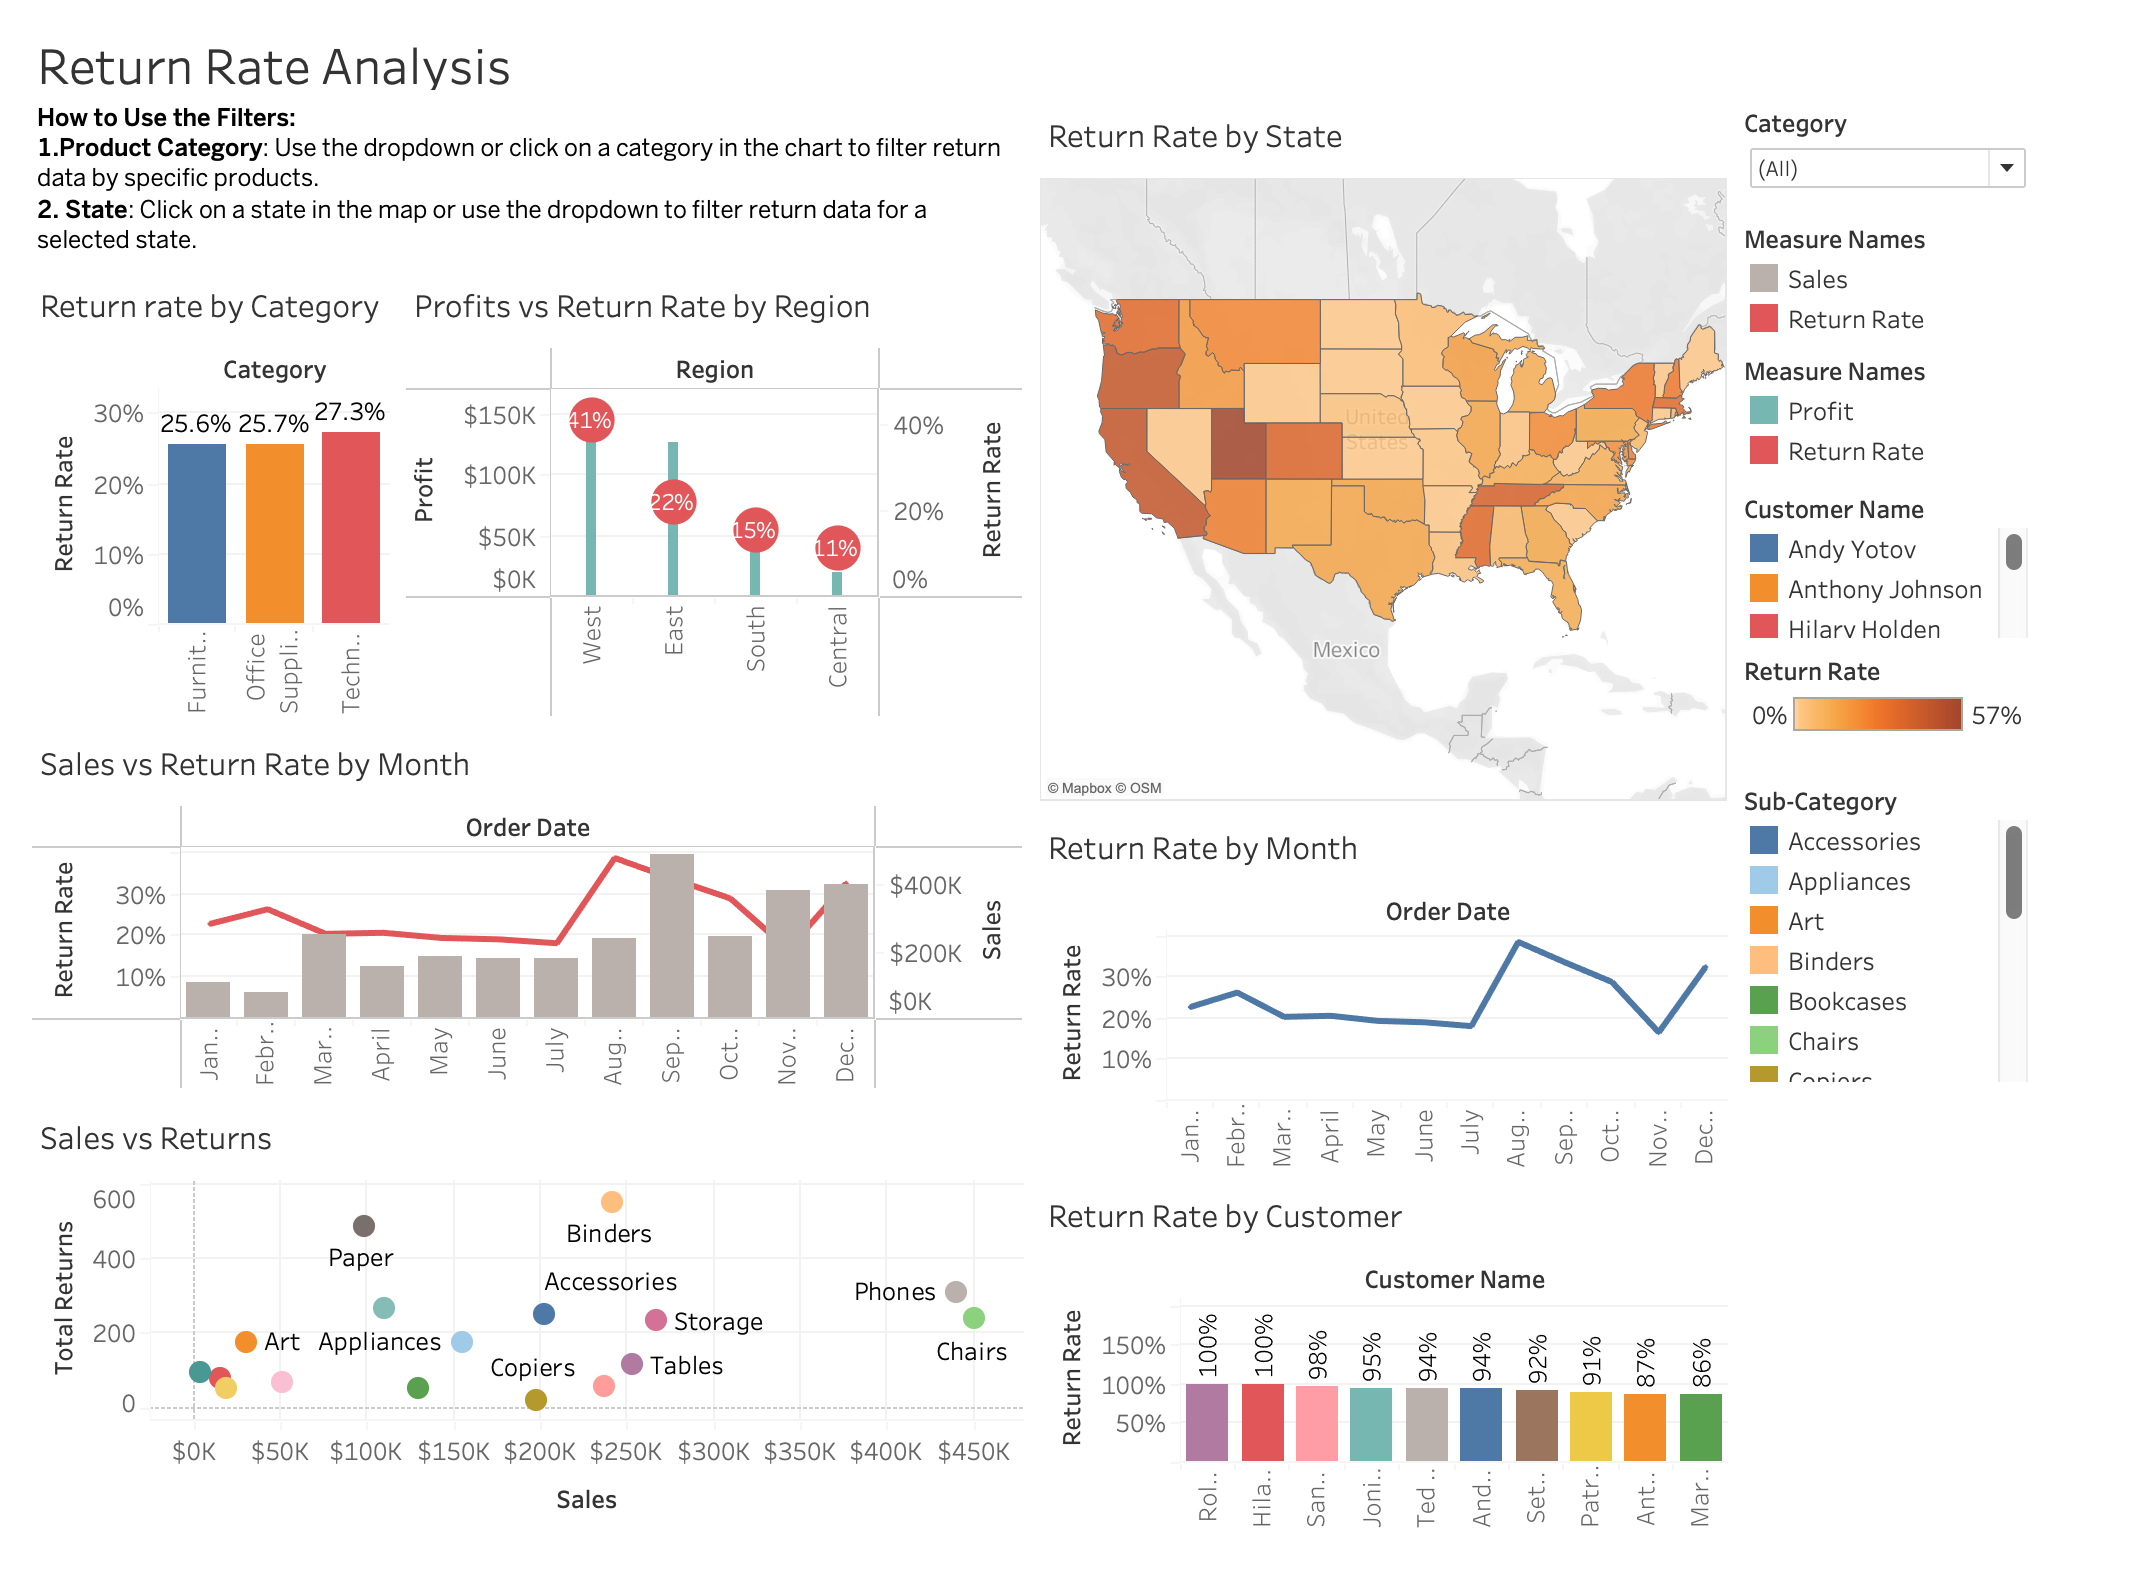

This screenshot's page, from the dashboard's own definition file:
{"tool":"tableau","page":{"name":"Return Rate Analysis","canvas":[1024,768],"ordinal":2},"visuals":[{"type":"title","box":[8,8,1008,32]},{"type":"text","box":[8,40,504,85]},{"type":"worksheet","title":"Return Rate by State","mark":"Automatic","box":[512,40,352,356]},{"type":"filter","title":"Return rate by Category","param":"[federated.04a0jq51cfmkmh19b9qtm1soxyis].[none:Category:nk]","box":[864,40,152,57.8]},{"type":"legend","title":"Sales vs Return Rate by Month","param":"[federated.04a0jq51cfmkmh19b9qtm1soxyis].[:Measure Names]","box":[864,97.8,152,66]},{"type":"worksheet","title":"Return rate by Category","mark":"Bar","rows":["Calculation_72550234440519680"],"cols":["Category"],"box":[8,125,187,229]},{"type":"worksheet","title":"Profits vs Return Rate by Region","mark":"Circle","rows":["Profit","Calculation_72550234456182786"],"cols":["Region"],"box":[195,125,317,229]},{"type":"legend","title":"Profits vs Return Rate by Region","param":"[federated.04a0jq51cfmkmh19b9qtm1soxyis].[:Measure Names]","box":[864,163.8,152,69]},{"type":"legend","title":"Return Rate by Customer","param":"[federated.04a0jq51cfmkmh19b9qtm1soxyis].[none:Customer Name:nk]","box":[864,232.8,152,81]},{"type":"legend","title":"Return Rate by State","param":"[federated.04a0jq51cfmkmh19b9qtm1soxyis].[usr:Calculation_72550234456182786:qk]","box":[864,313.8,152,65]},{"type":"worksheet","title":"Sales vs Return Rate by Month","mark":"Line","rows":["Calculation_72550234456182786","Sales"],"cols":["Order Date"],"box":[8,354,504,187]},{"type":"legend","title":"Sales vs Returns","param":"[federated.04a0jq51cfmkmh19b9qtm1soxyis].[none:Sub-Category:nk]","box":[864,378.8,152,157]},{"type":"worksheet","title":"Return Rate by Month","mark":"Line","rows":["Calculation_72550234456182786"],"cols":["Order Date"],"box":[512,396,352,184]},{"type":"worksheet","title":"Sales vs Returns","mark":"Circle","rows":["Calculation_72550234440519680"],"cols":["Sales"],"box":[8,541,504,219]},{"type":"worksheet","title":"Return Rate by Customer","mark":"Bar","rows":["Calculation_72550234456182786"],"cols":["Customer Name"],"box":[512,580,352,180]}]}

Visuals, with their boxes in screenshot pixels (x1, y1, x2, y2), scaled from the page's 1024x768 canvas onto the 2134x1576 screenshot:
title: BBox(17, 16, 2117, 82)
text: BBox(17, 82, 1067, 257)
"Return Rate by State" worksheet: BBox(1067, 82, 1801, 813)
"Return rate by Category" filter: BBox(1801, 82, 2117, 201)
"Sales vs Return Rate by Month" legend: BBox(1801, 201, 2117, 336)
"Return rate by Category" worksheet (Bar marks): BBox(17, 257, 406, 726)
"Profits vs Return Rate by Region" worksheet (Circle marks): BBox(406, 257, 1067, 726)
"Profits vs Return Rate by Region" legend: BBox(1801, 336, 2117, 478)
"Return Rate by Customer" legend: BBox(1801, 478, 2117, 644)
"Return Rate by State" legend: BBox(1801, 644, 2117, 777)
"Sales vs Return Rate by Month" worksheet (Line marks): BBox(17, 726, 1067, 1110)
"Sales vs Returns" legend: BBox(1801, 777, 2117, 1100)
"Return Rate by Month" worksheet (Line marks): BBox(1067, 813, 1801, 1190)
"Sales vs Returns" worksheet (Circle marks): BBox(17, 1110, 1067, 1560)
"Return Rate by Customer" worksheet (Bar marks): BBox(1067, 1190, 1801, 1560)
